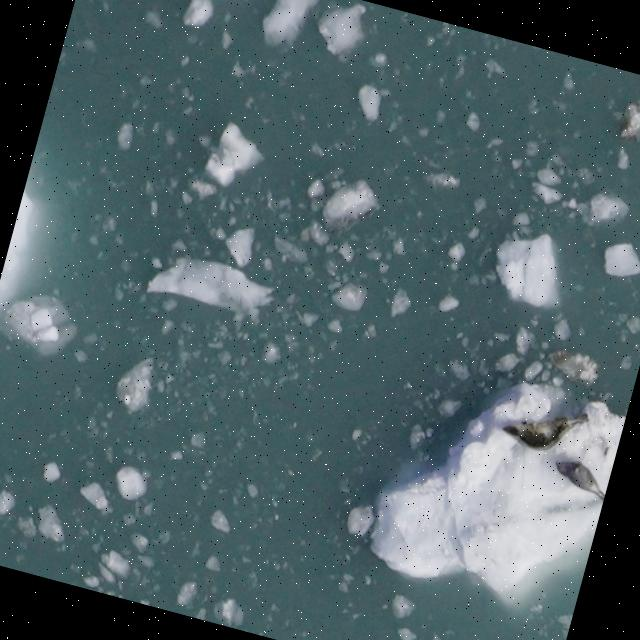seal: (490, 387, 595, 466), (543, 452, 612, 506)
